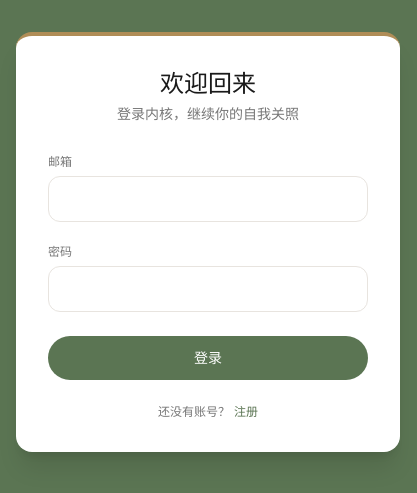
Test case: LoginPage › shows the backend error message on invalid credentials
This screenshot has width=417, height=493.
Type "seeker@neihe.app" into the field labelled "邮箱" at (208, 199), box left=48, top=176, right=368, bottom=222
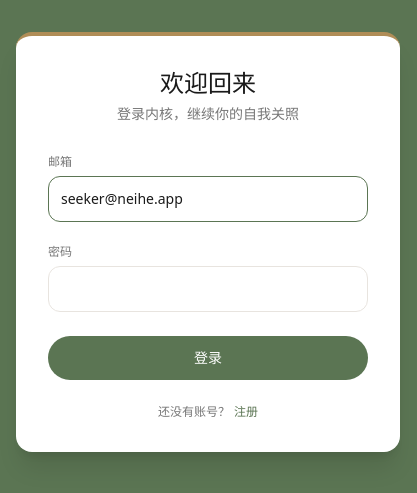
Type "wrong-password" into the password field labelled "密码" at (208, 289), box left=48, top=266, right=368, bottom=312
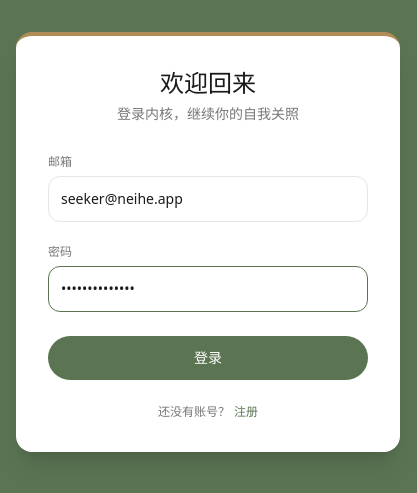
Click the button "登录" at (208, 358), box left=48, top=336, right=368, bottom=380
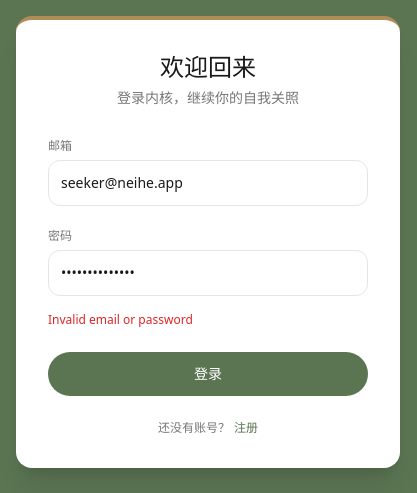
Check: the text "Invalid email or password" is shown, box left=48, top=311, right=193, bottom=328
